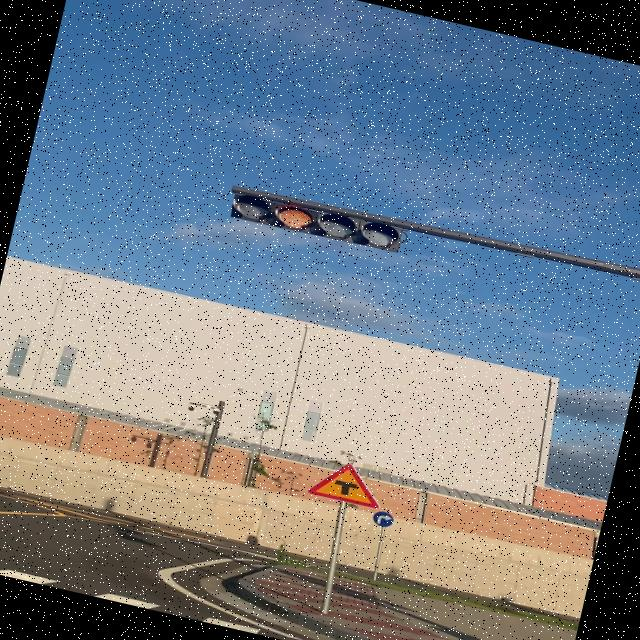yellow_light: (228, 188, 404, 255)
